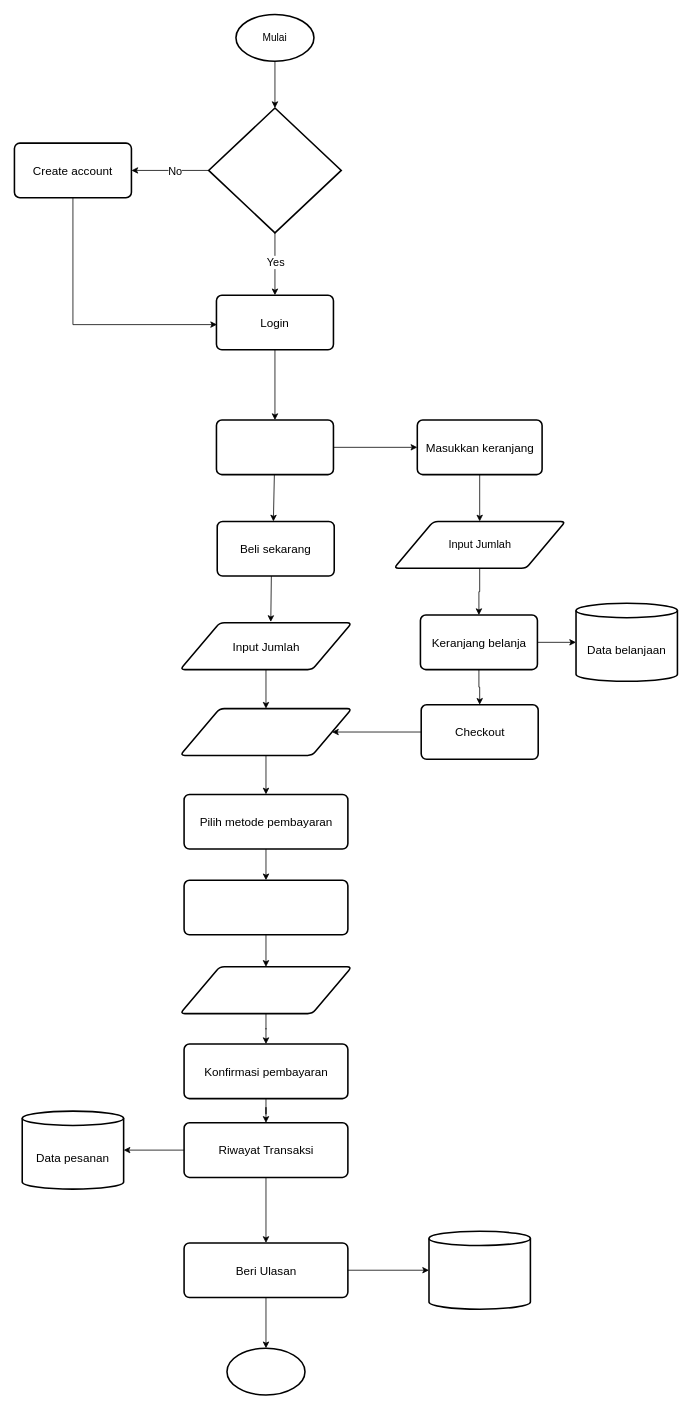
This 691x1409 diagram has some shape labels left out. The centre of each missing label's shape, as x and y in pixels:
Buat pesanan: pixel 265 907
Data ulasan: pixel 479 1270
Input alamat: pixel 265 731
Input bukti pembayaran: pixel 265 990
Katalog produk: pixel 274 447
Selesai: pixel 265 1371
Sudah punya akun?: pixel 274 170
